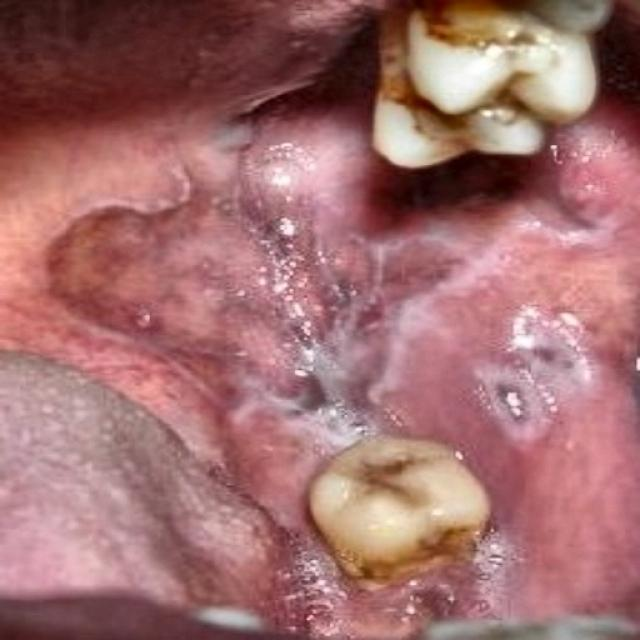cancer-detection: (28, 92, 614, 445), (455, 283, 618, 459)
processing_area: (0, 0, 639, 618), (304, 426, 501, 604)
